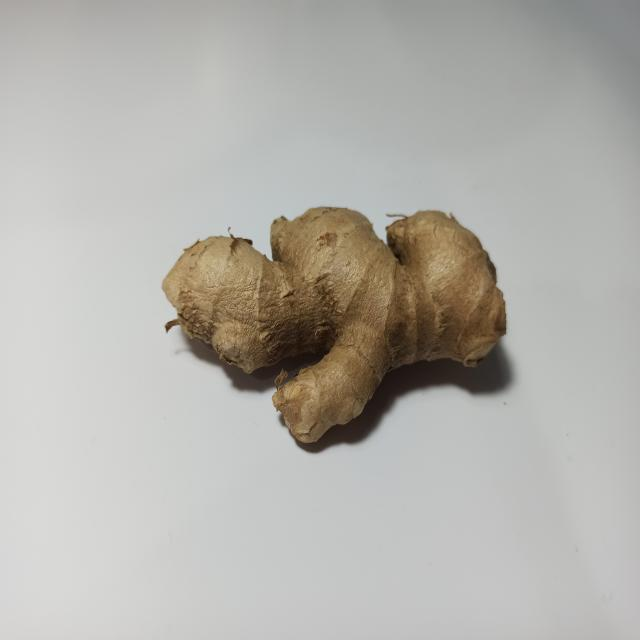ginger: (171, 212, 504, 434)
